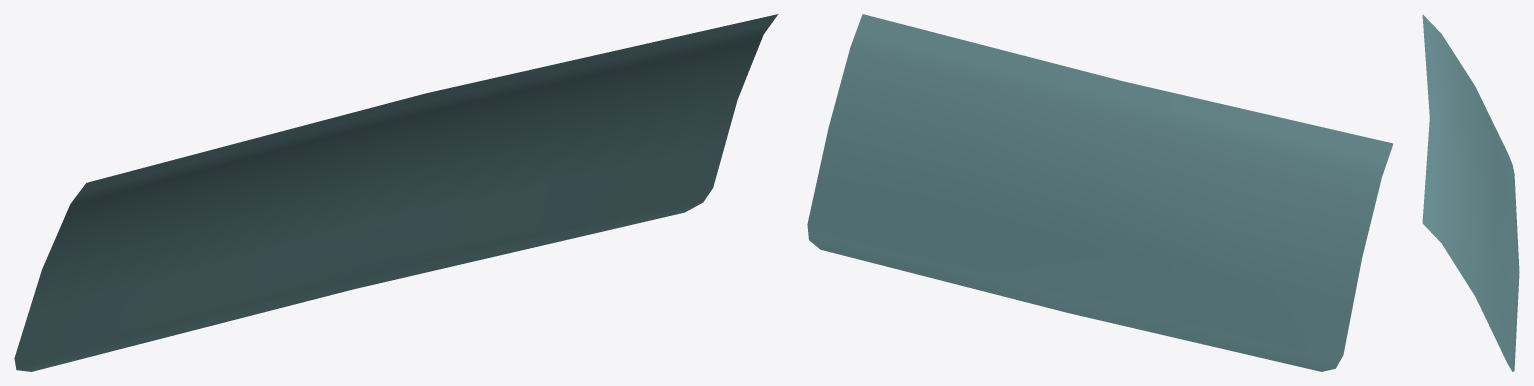
File: Offroad_2_Window_Tessellate_R.fbx
The picture shows the model from 3 angles, left to right: view 1: azimuth 30°, elevation 25°; view 2: azimuth 150°, elevation 25°; view 3: azimuth 270°, elevation 25°; orthographic projection. The views are drawn at different scales.
Parts seen in each view (by area): view 1: Offroad_2_Window_Tessellate_R; view 2: Offroad_2_Window_Tessellate_R; view 3: Offroad_2_Window_Tessellate_R.
Part boxes in pixels (<box>): Offroad_2_Window_Tessellate_R: <box>14,14,778,371</box>; Offroad_2_Window_Tessellate_R: <box>807,14,1393,371</box>; Offroad_2_Window_Tessellate_R: <box>1422,14,1519,371</box>.
Size of the model in its own units: 122 by 41.41 by 23.58.
